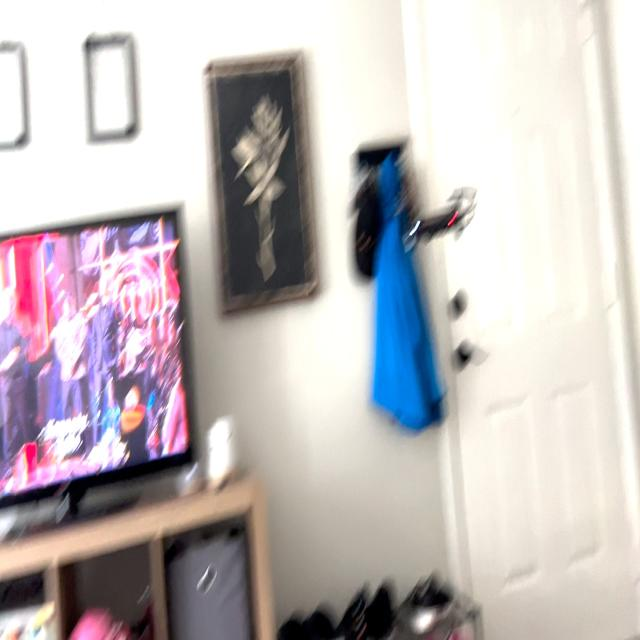drone: (388, 178, 484, 258)
